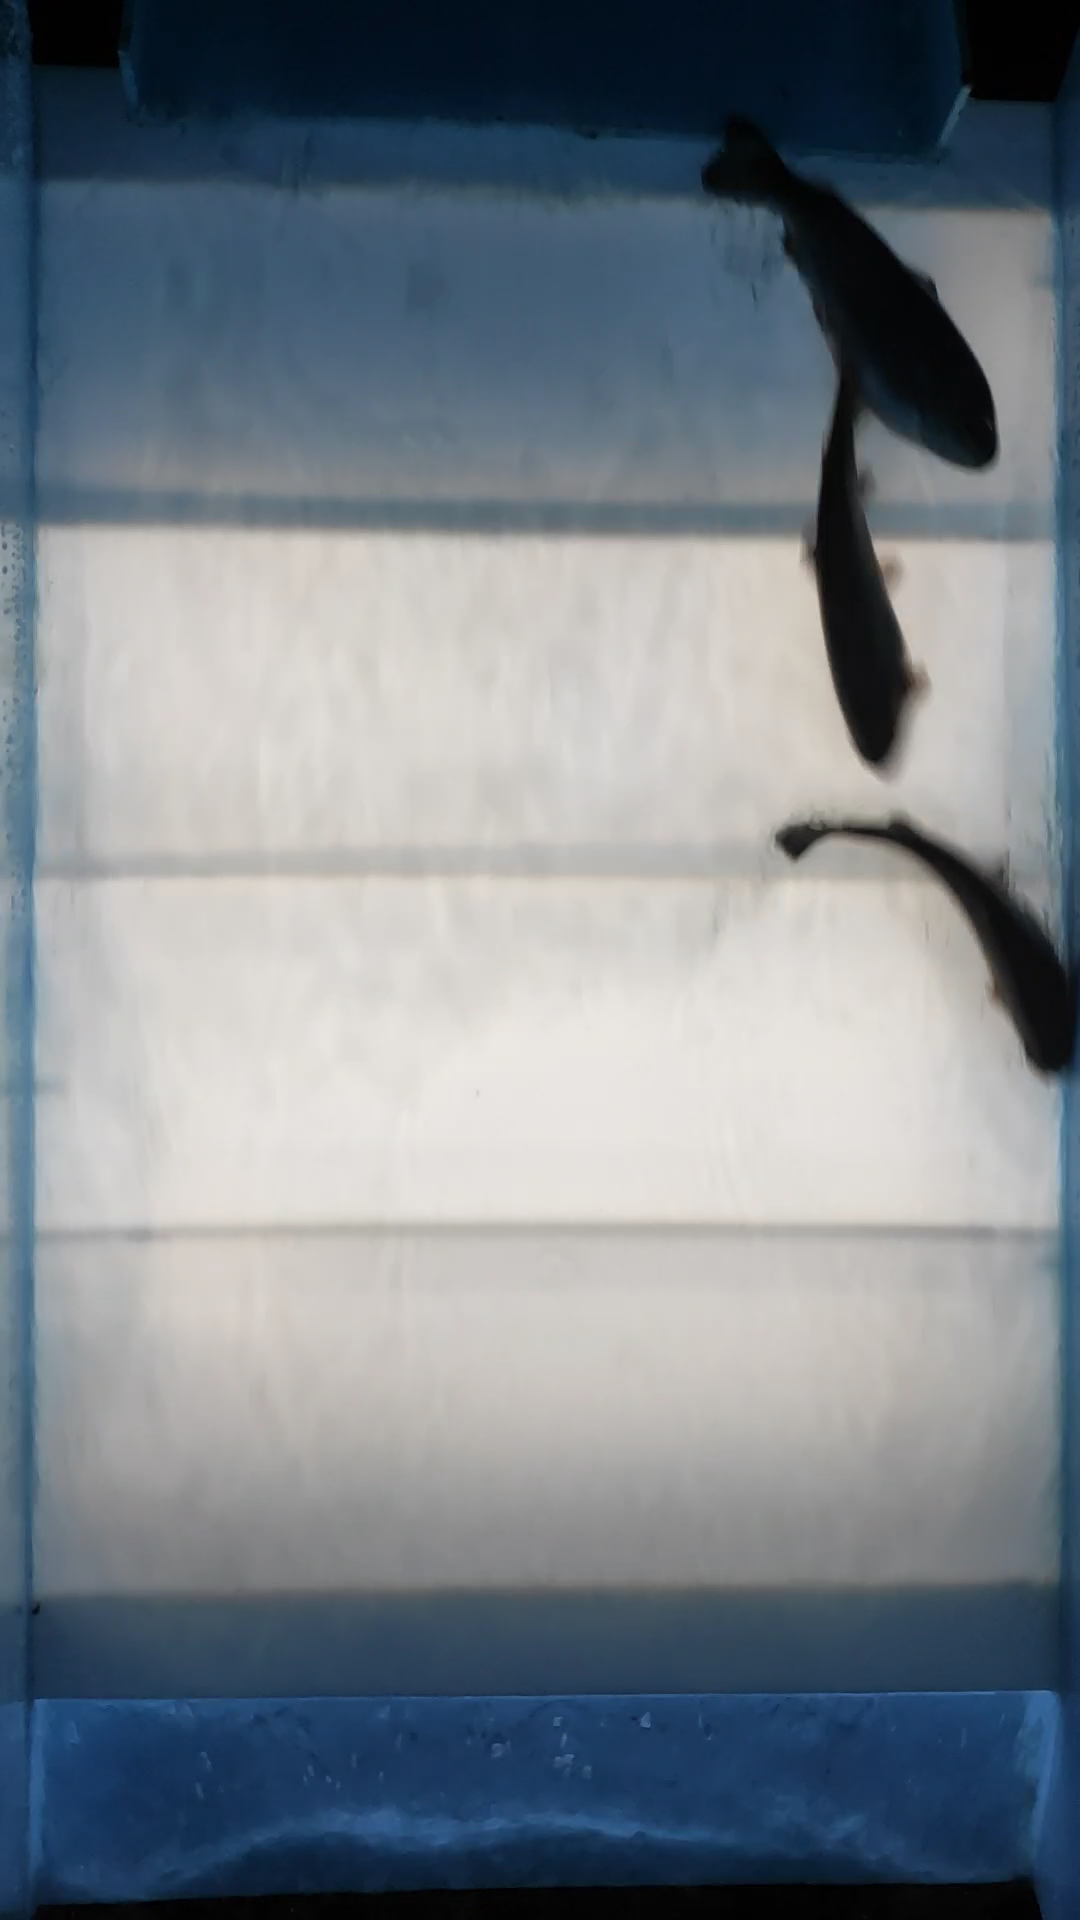fish: (698, 103, 1001, 480), (775, 812, 1077, 1082), (798, 345, 939, 771)
